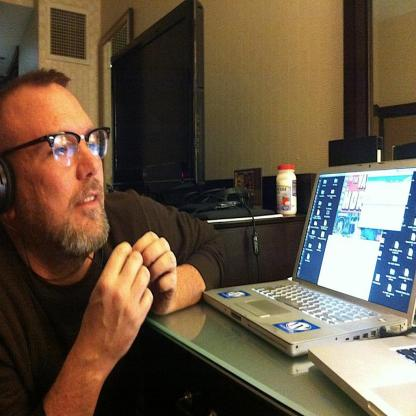board: (200, 158, 416, 358), (309, 330, 416, 416), (276, 163, 298, 217)
